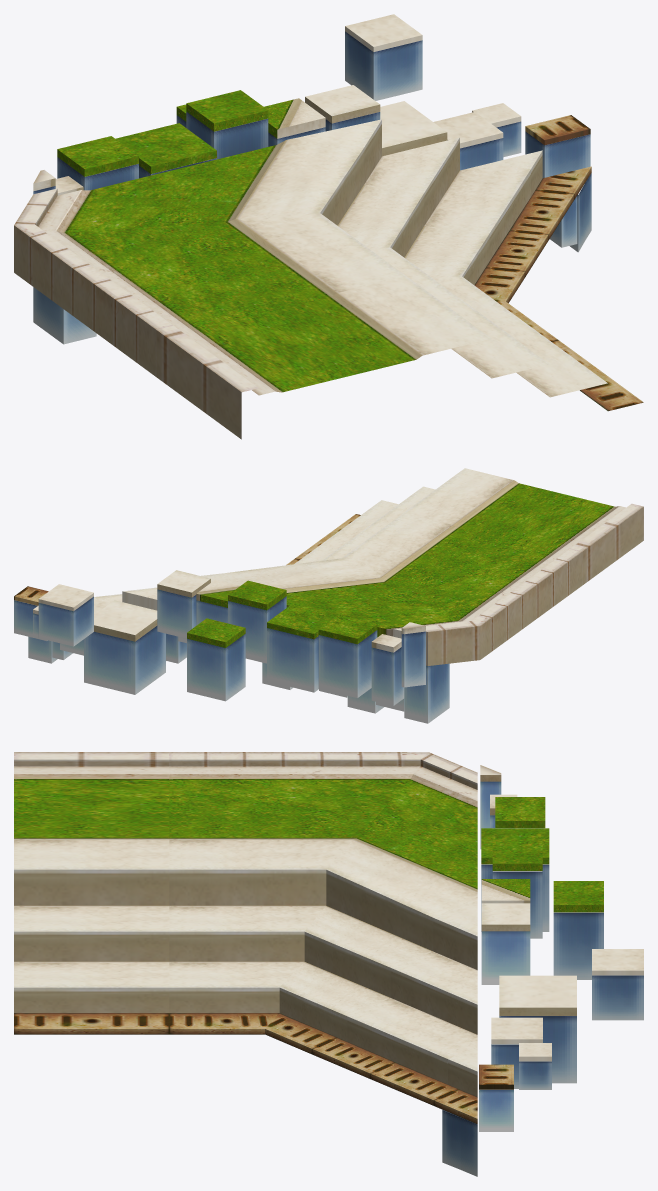
File: a_ESDstand02.glb
The picture shows the model from 3 angles, top to bottom: view 1: azimuth 30°, elevation 25°; view 2: azimuth 150°, elevation 25°; view 3: azimuth 270°, elevation 25°; orthographic projection. The views are drawn at different scales.
Parts seen in each view (by area): view 1: a_ESDstand02; view 2: a_ESDstand02; view 3: a_ESDstand02.
Boxes of the visible parts, x1,y1,x2,y2 form: a_ESDstand02: (14,14,643,439); a_ESDstand02: (14,468,643,723); a_ESDstand02: (14,752,643,1176).
Size of the model in its own units: 12.34 by 3.72 by 12.24.
Materials: 4 (4 with a texture image).
